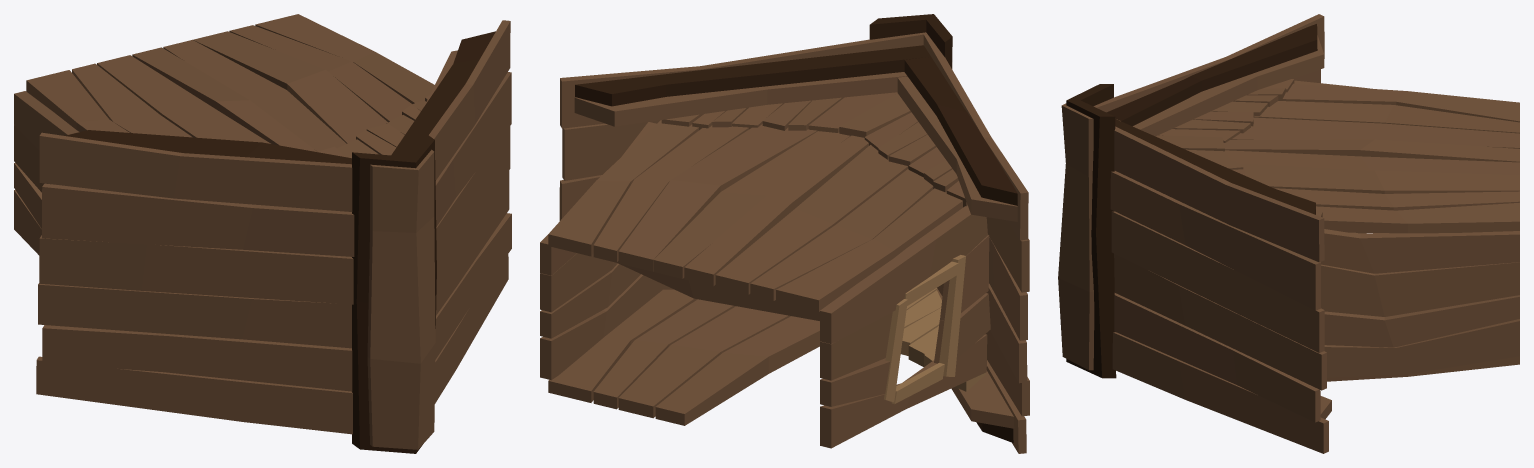
Rendered from House.fbx.
3 views of the same model, side by side, from view 1: azimuth 30°, elevation 25°; view 2: azimuth 150°, elevation 25°; view 3: azimuth 270°, elevation 25° (orthographic). The views are drawn at different scales.
Parts seen in each view (by area): view 1: CABANON; view 2: CABANON; view 3: CABANON.
Boxes of the visible parts, left/top/right/bottom form: CABANON: left=14, top=14, right=511, bottom=453; CABANON: left=540, top=14, right=1029, bottom=453; CABANON: left=1058, top=14, right=1519, bottom=453.
Size of the model in its own units: 416 by 245 by 393.
